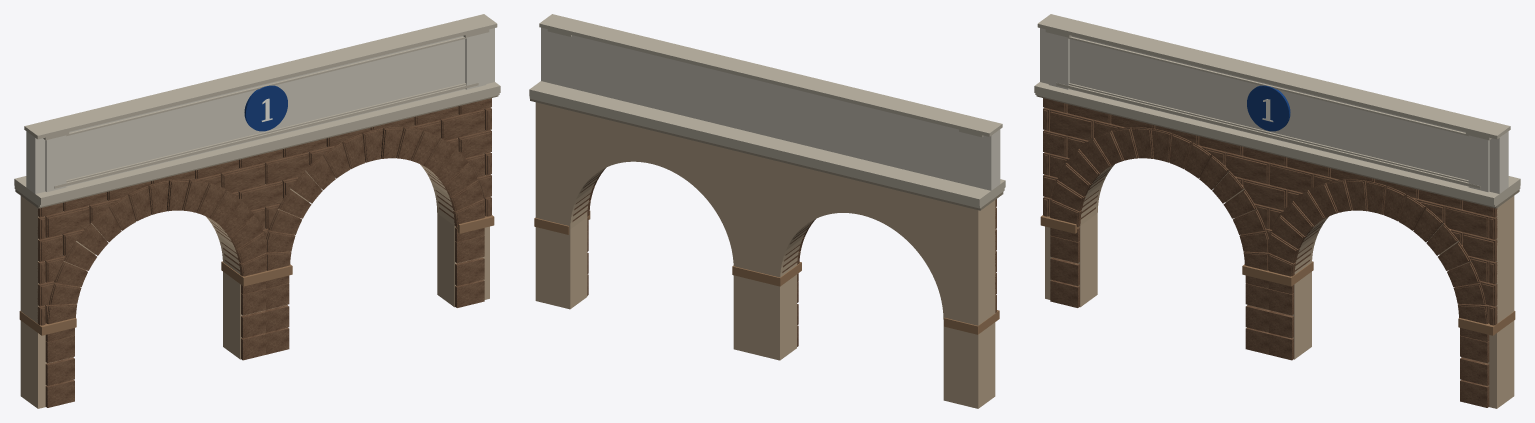
Rendered from changning-chartered-bank-garden-twin-arches-lod.glb.
The picture shows the model from 3 angles, left to right: view 1: azimuth 30°, elevation 25°; view 2: azimuth 150°, elevation 25°; view 3: azimuth 330°, elevation 25°; orthographic projection. The views are drawn at different scales.
Visible parts, largest first — view 1: 麦加利银行襄理住宅花园侧双石券与中柱; view 2: 麦加利银行襄理住宅花园侧双石券与中柱; view 3: 麦加利银行襄理住宅花园侧双石券与中柱.
Part boxes in pixels (bbox=[...]): 麦加利银行襄理住宅花园侧双石券与中柱: bbox=[14, 14, 500, 408]; 麦加利银行襄理住宅花园侧双石券与中柱: bbox=[529, 14, 1005, 408]; 麦加利银行襄理住宅花园侧双石券与中柱: bbox=[1034, 14, 1520, 408].
Size of the model in its own units: 6.61 by 3.8 by 0.659.
Materials: 9 (1 with a texture image).
